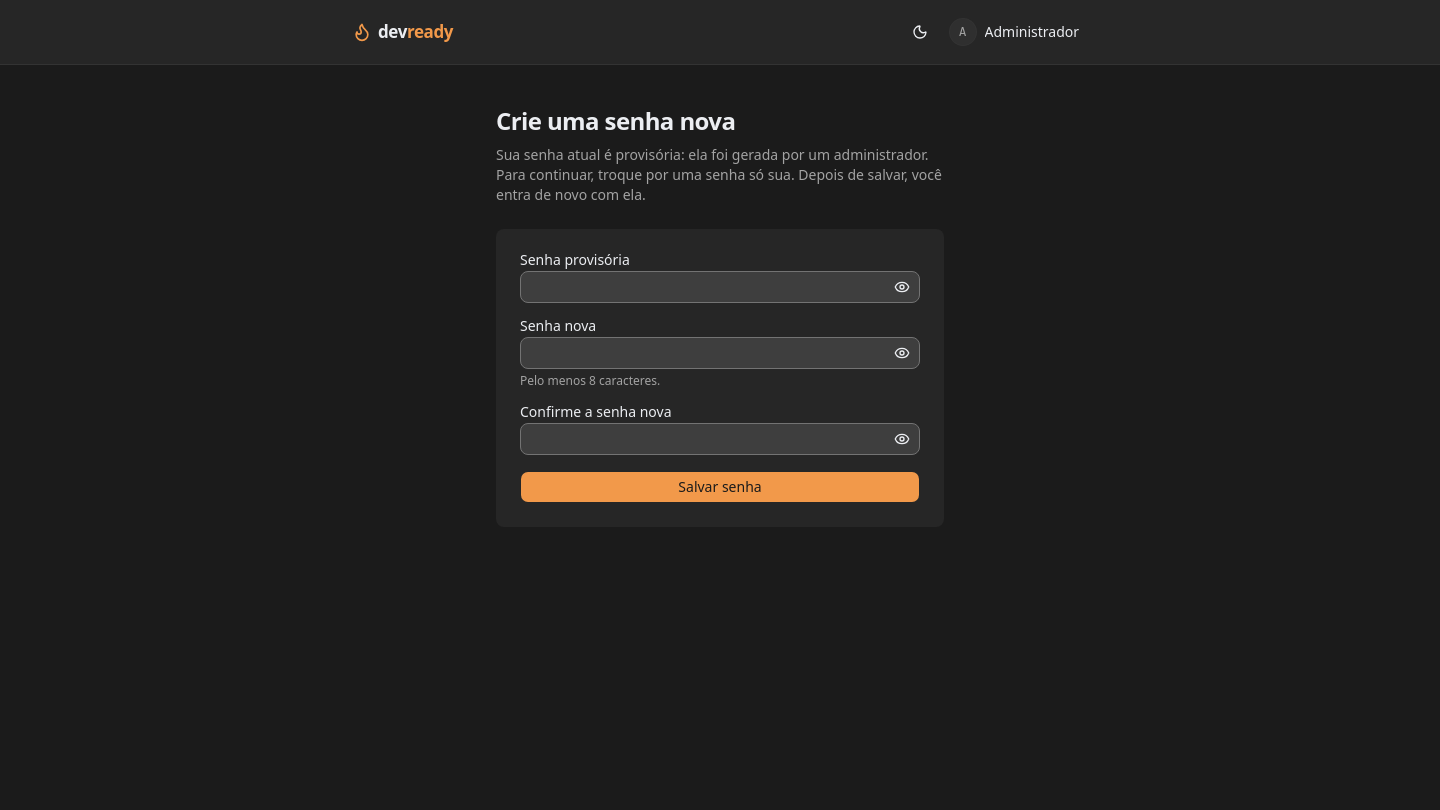
Scenario: ChangePasswordPage › o 409 (a senha mudou por outro caminho) encerra a sessão e leva ao login com o detail
Type "Provisoria000001" into the password field labelled "Senha provisória" at (720,287), box [520,271,920,303]
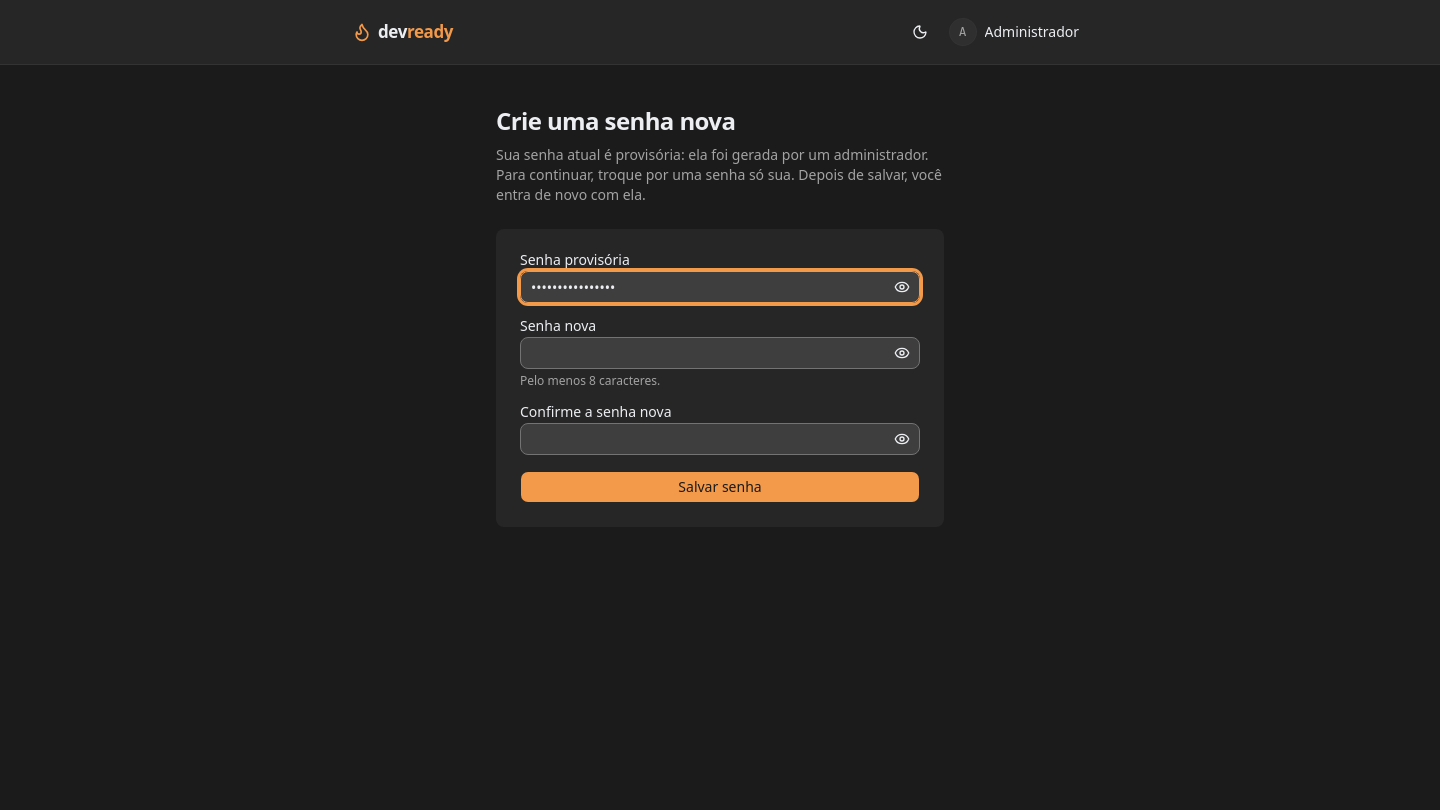
Type "senha-nova-1" into the password field labelled "Senha nova" at (720,353), box [520,337,920,369]
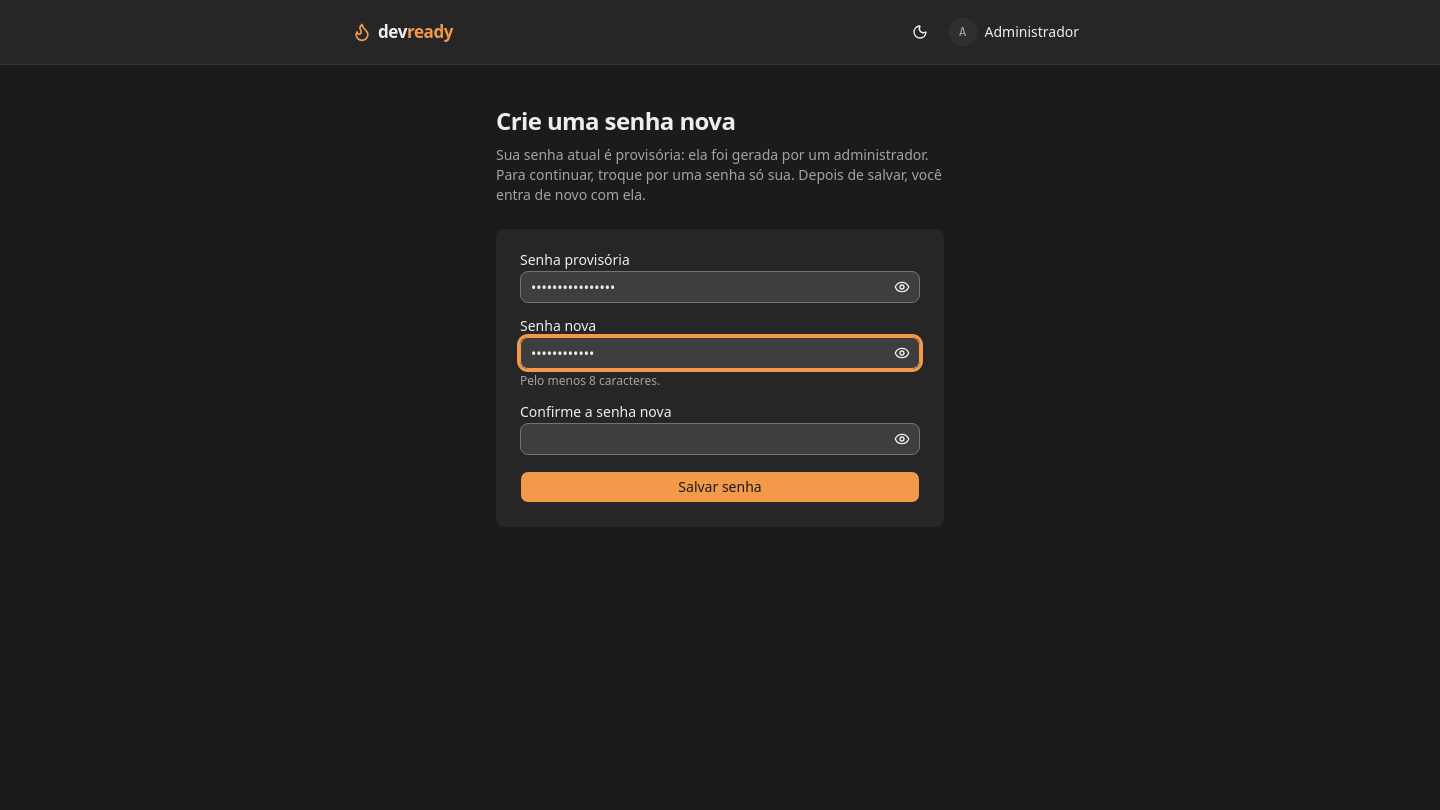
Type "senha-nova-1" into the password field labelled "Confirme a senha nova" at (720,439), box [520,423,920,455]
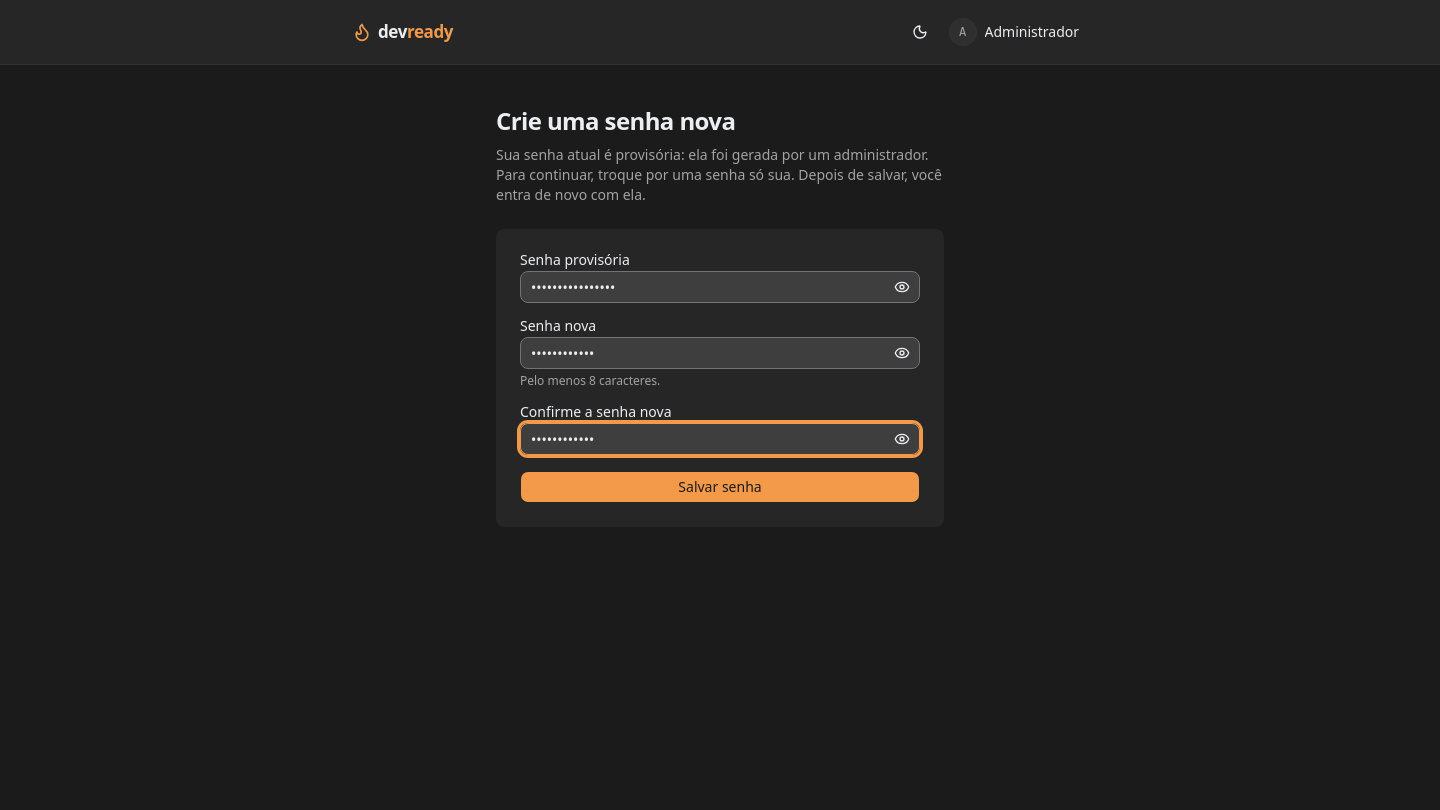
Click the button "Salvar senha" at (720,487), box [520,471,920,503]
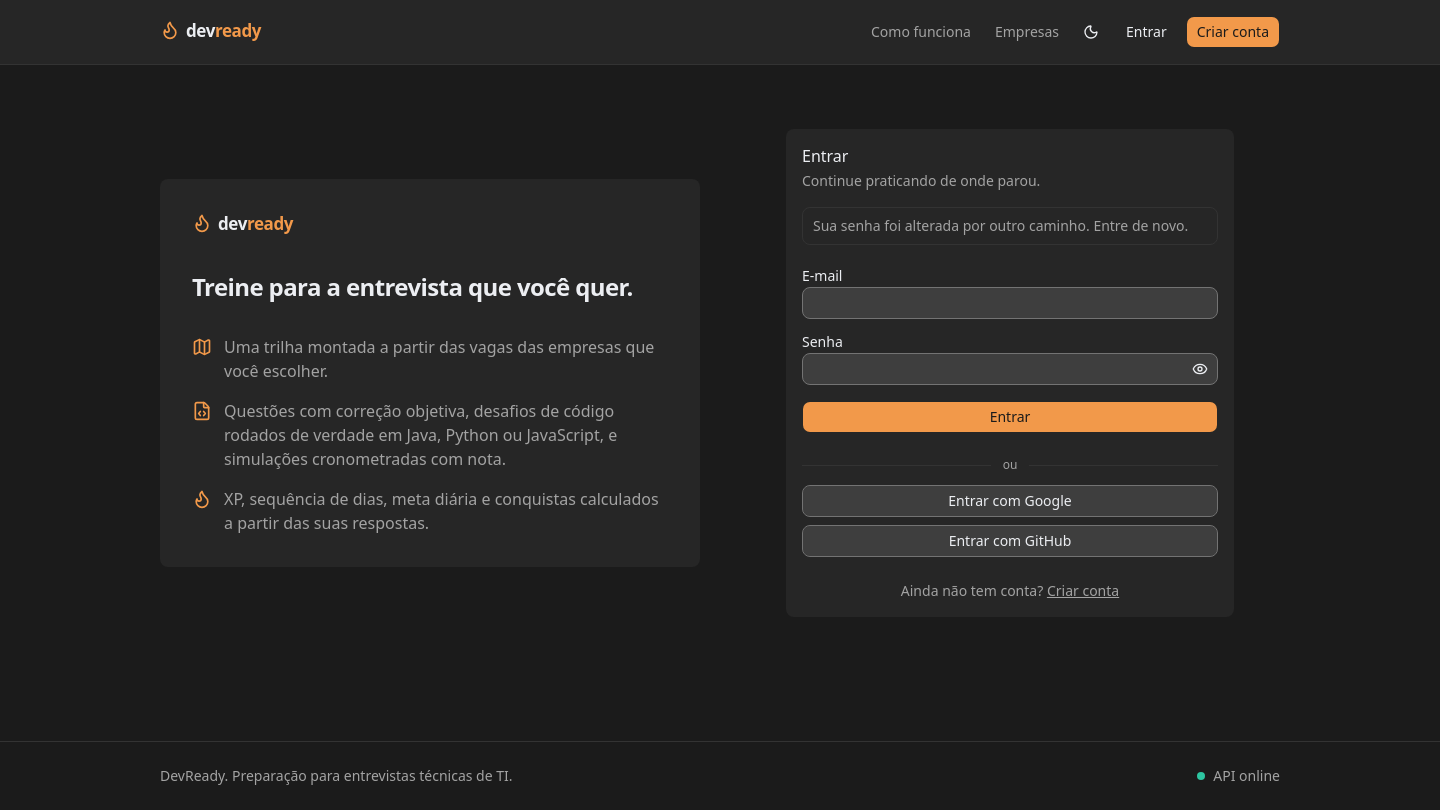
expect the message reads "Sua senha foi alterada por outro caminho. Entre de novo.": met, box [813,216,1188,235]
